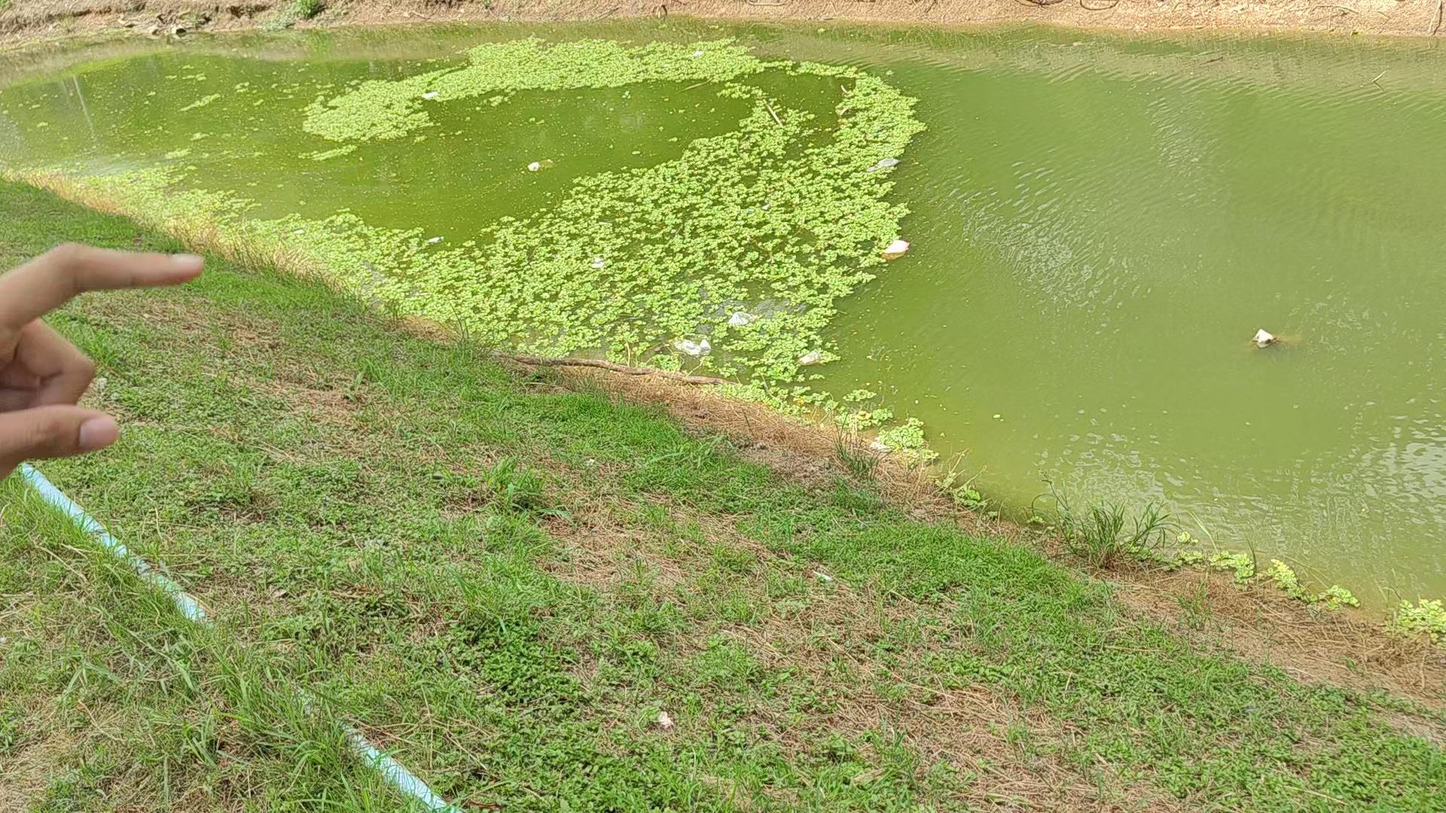trash: (882, 239, 910, 260), (675, 339, 710, 355), (1252, 328, 1278, 347), (868, 157, 898, 171), (728, 312, 756, 327), (799, 350, 822, 365), (528, 160, 551, 170), (591, 257, 605, 268), (426, 236, 444, 244), (422, 91, 438, 99), (690, 50, 704, 56)
